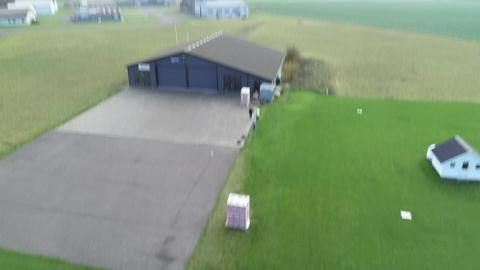RockwoolPallet: (225, 193, 252, 230)
